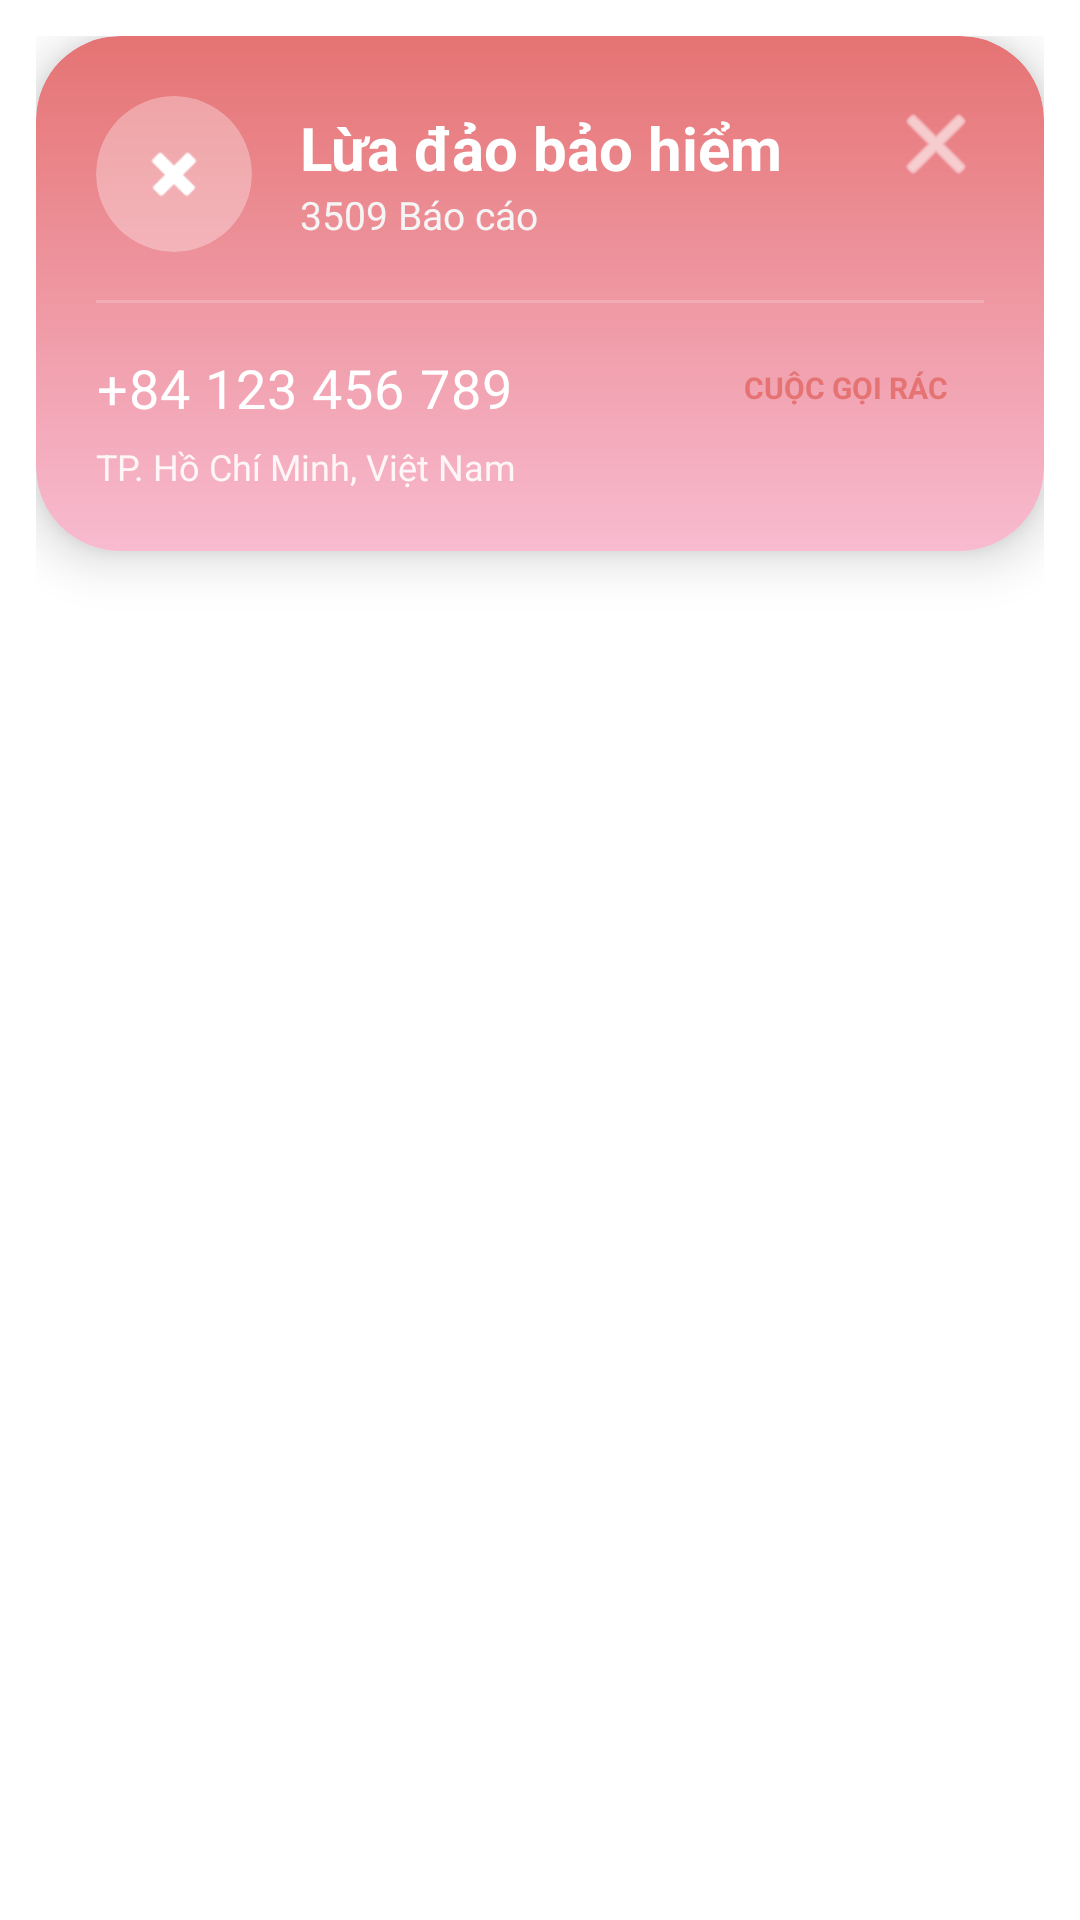

Where icons sit on this 1080 × 1920 app screen, as bbox=[x1, y1, x2, y2]:
close clear cancel: bbox=[888, 96, 984, 174]
delete: bbox=[97, 147, 251, 252]
